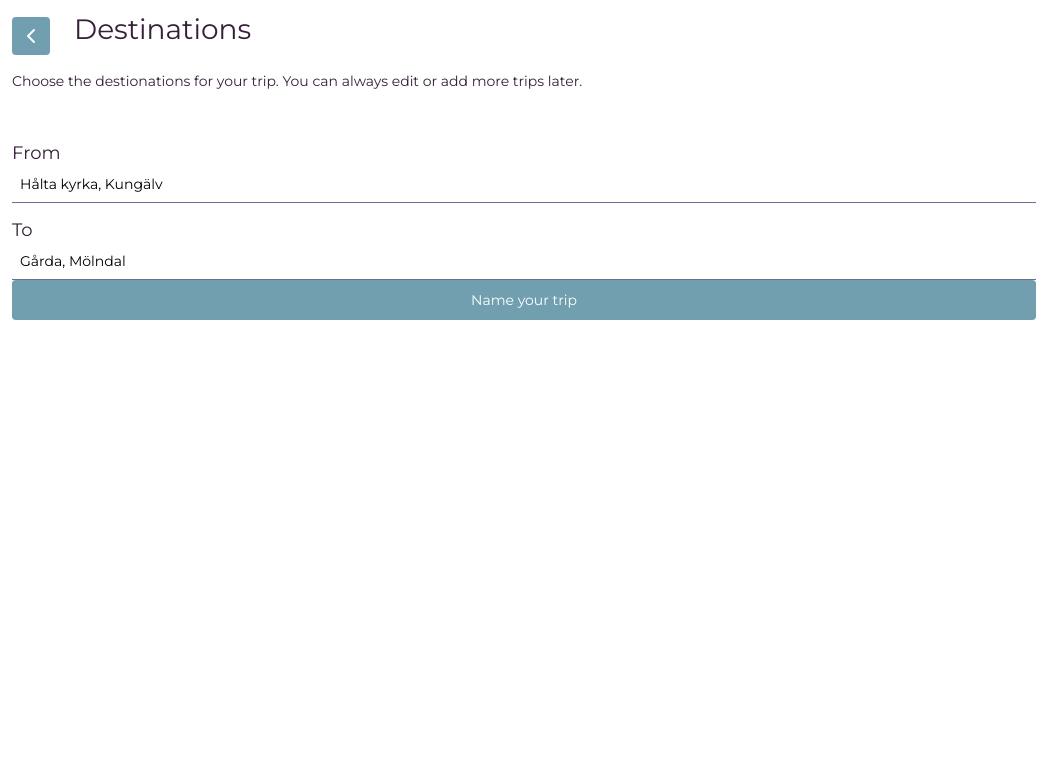
Test: <ChooseDestionationView /> › should show dropdown with 7 listitems when typing in the to input
The image size is (1048, 768).
Type "aa" into the field with test id "to-input" at (524, 262), box x1=12 y1=244 x2=1036 y2=280
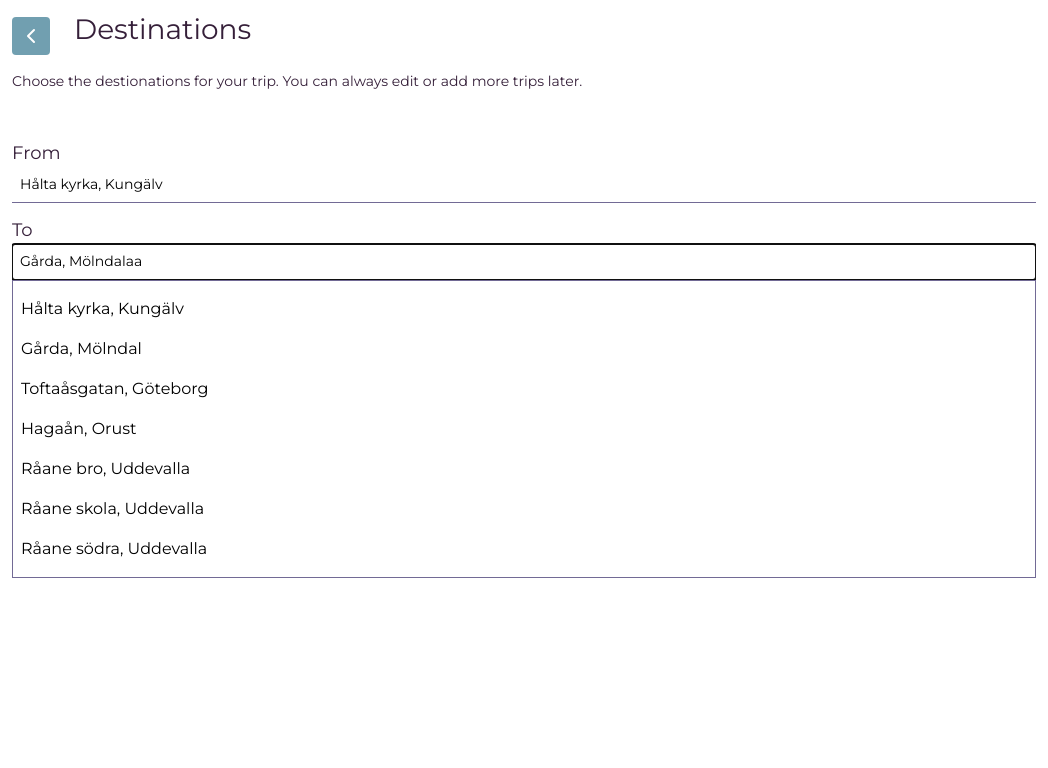
Result: the list is shown at x1=12 y1=280 x2=1036 y2=578
Result: the number of list items is 7
